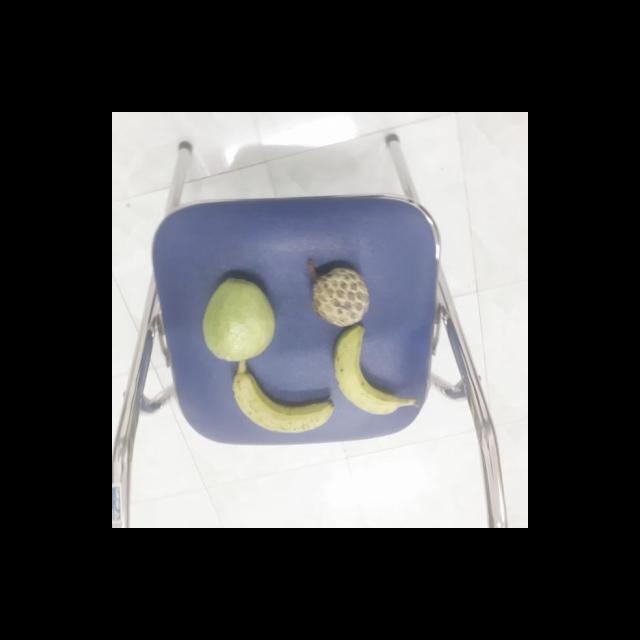Sakya fruit: (307, 266, 368, 326)
banana: (228, 364, 332, 434), (327, 328, 405, 414)
guava: (199, 277, 275, 360)
